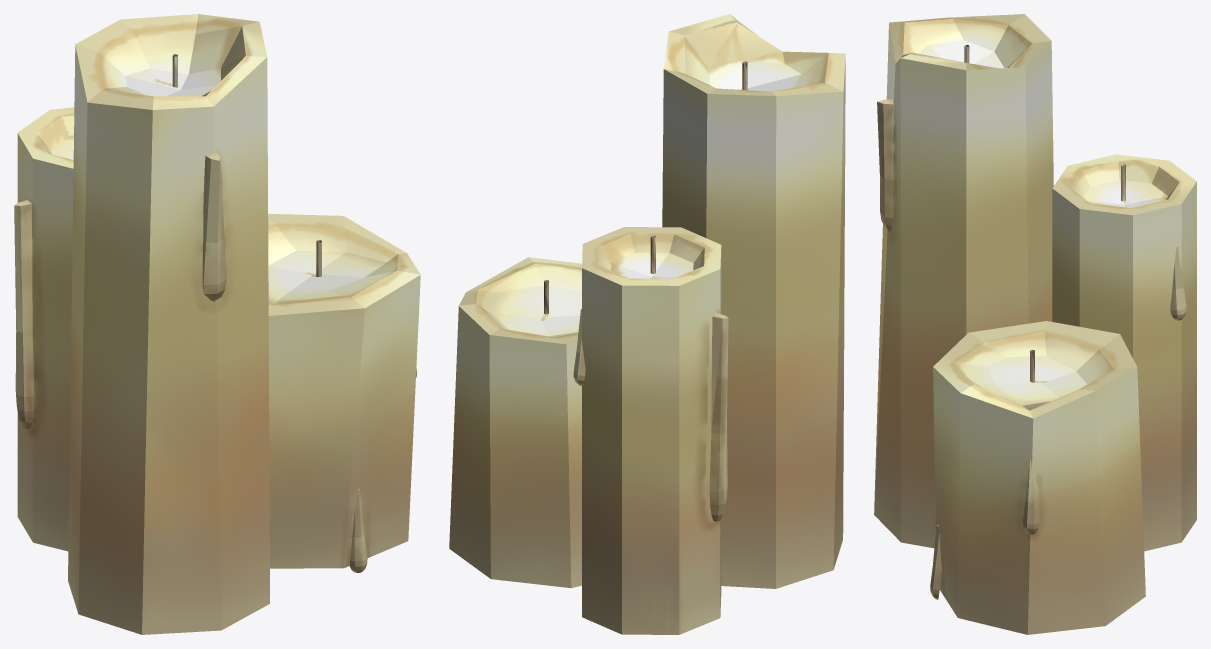
The model's file is vela.fbx.
3 renders of one model, left to right at view 1: azimuth 30°, elevation 25°; view 2: azimuth 150°, elevation 25°; view 3: azimuth 270°, elevation 25°, orthographic. The views are drawn at different scales.
Visible parts, largest first — view 1: vela; view 2: vela; view 3: vela.
Part boxes in pixels (<box>): vela: <box>14,14,420,634</box>; vela: <box>449,14,845,634</box>; vela: <box>874,14,1196,634</box>.
Bounding box in the file's own units: 186 × 266 × 158.
